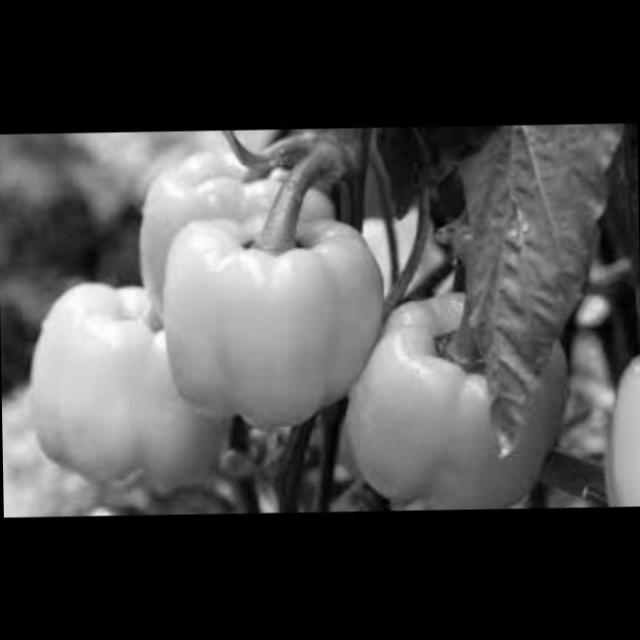ot chuong: (352, 288, 579, 506), (172, 213, 388, 415), (24, 279, 233, 486), (129, 142, 348, 310), (592, 345, 640, 505)
